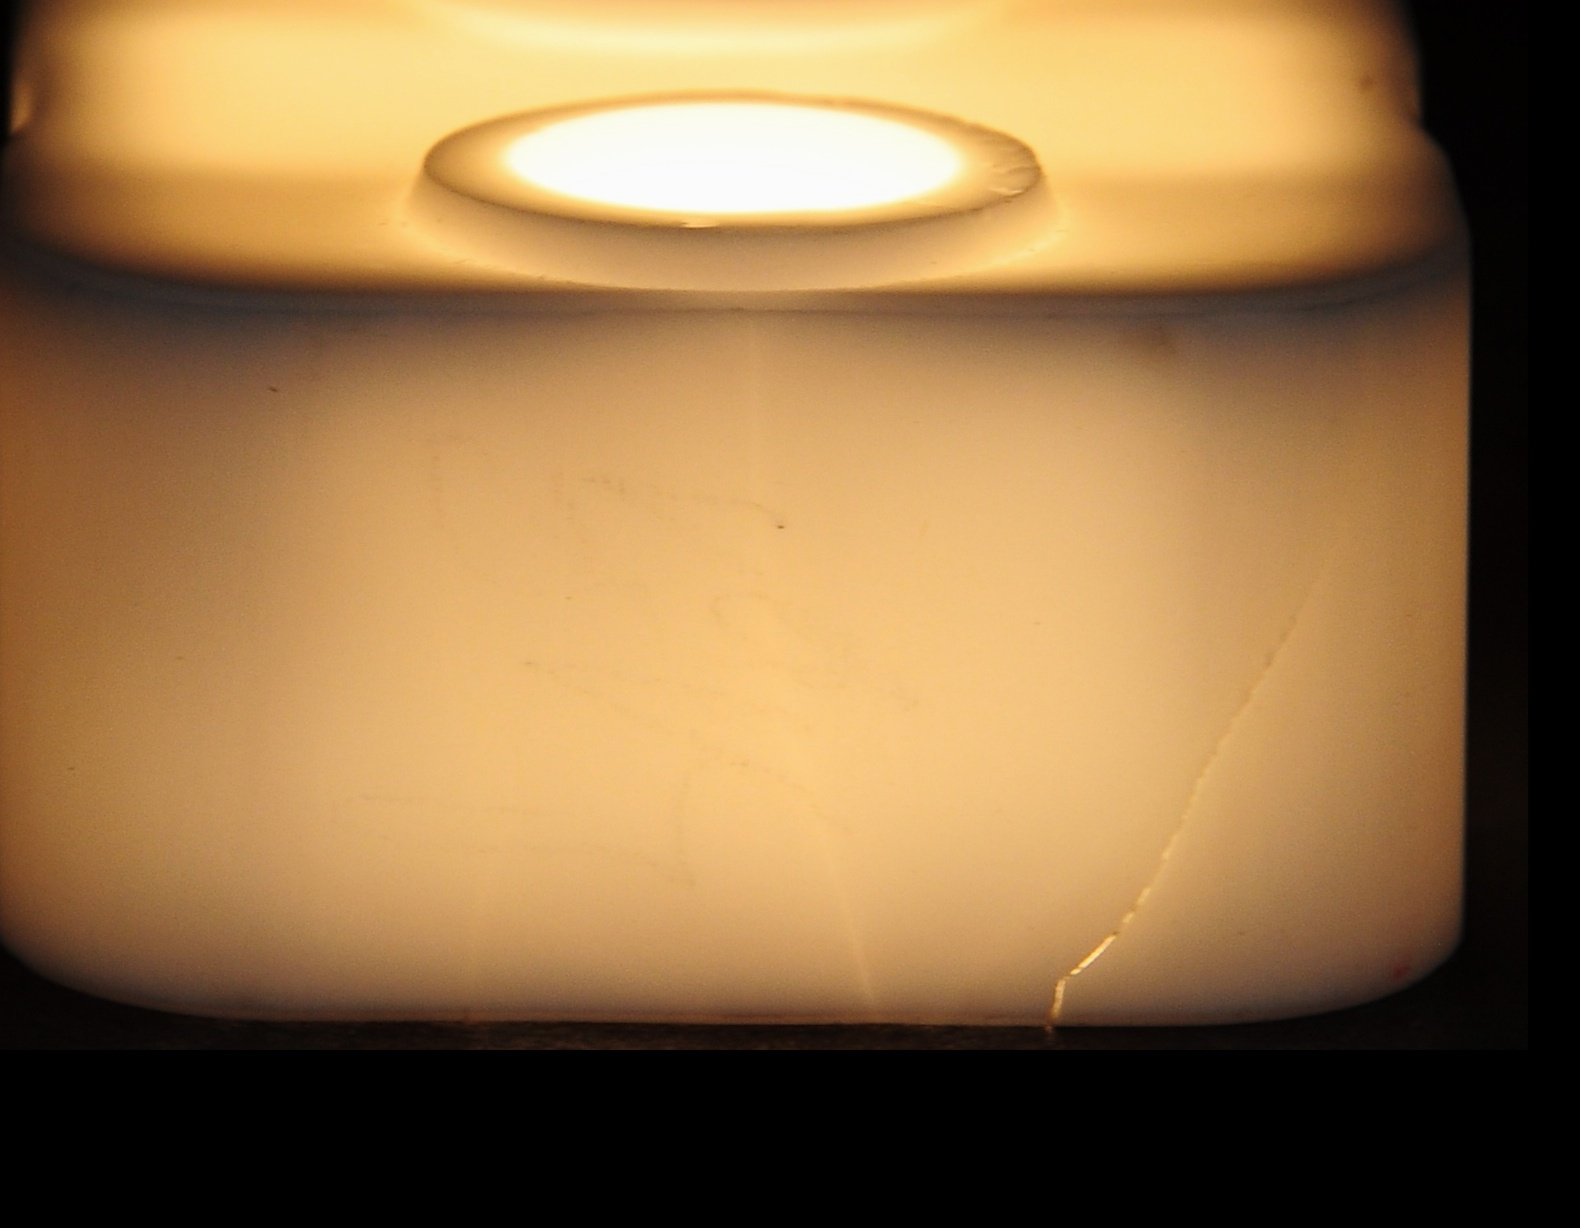flaw: (1200, 514, 1345, 817), (1032, 779, 1197, 1029)
